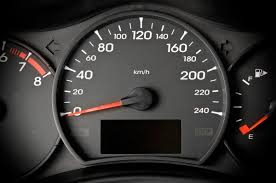Digital_Meter: (99, 119, 181, 154)
